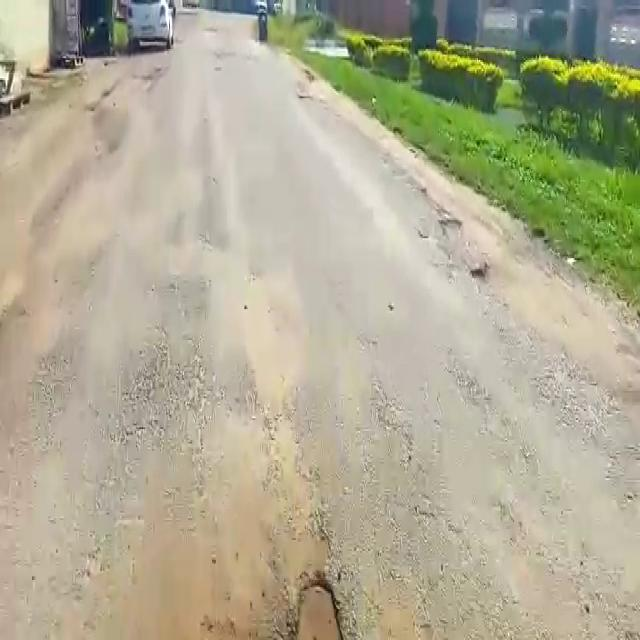Pothole: (210, 572, 345, 640)
